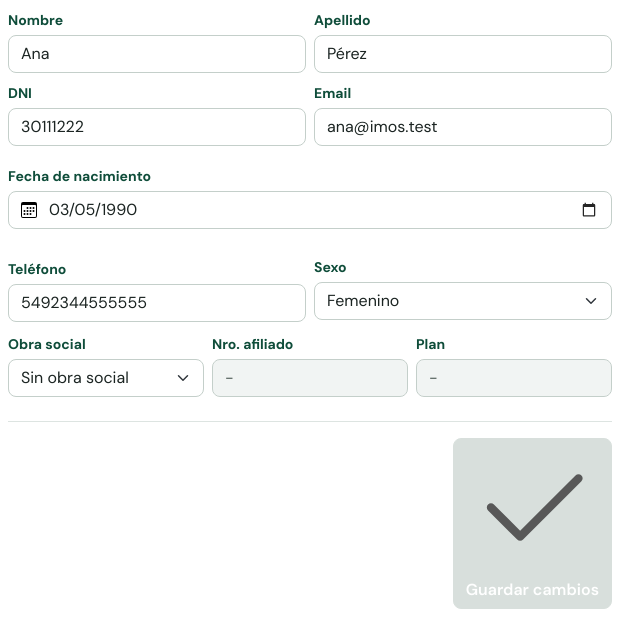
Test: PacienteFormFields (editar paciente) › cambiar algo habilita Guardar y muestra Descartar
Step 1. Replace the text in the field labelled "Nombre" with "Anita" → (157, 54), box [8,35,306,73]
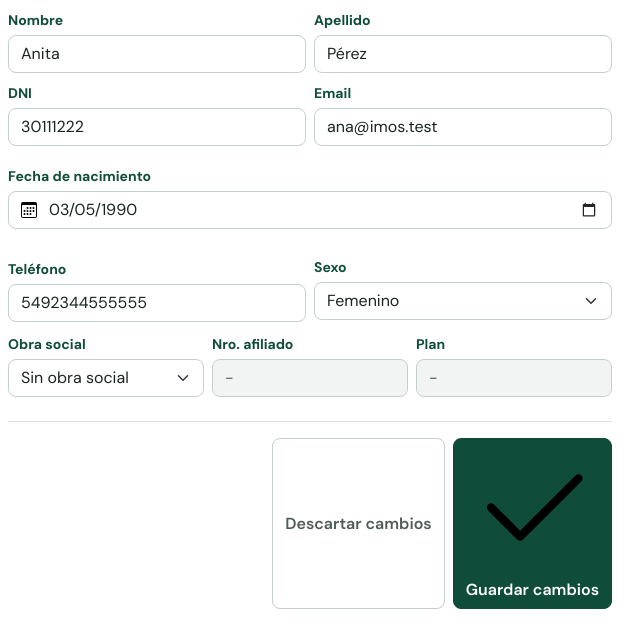
expect the button "Guardar cambios" is enabled: met, box [453,438,612,609]
expect the button "Descartar cambios" is shown: met, box [272,438,445,609]
